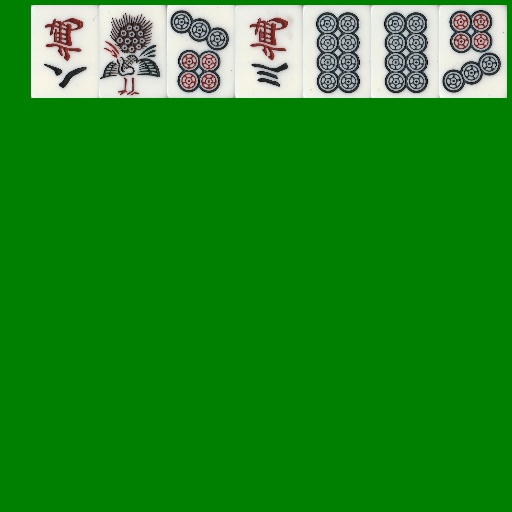1s: (99, 5, 167, 98)
3m: (235, 5, 303, 98)
7p: (167, 5, 235, 98), (439, 5, 507, 98)
8m: (31, 5, 99, 98)
8p: (303, 5, 371, 98), (371, 5, 439, 98)
